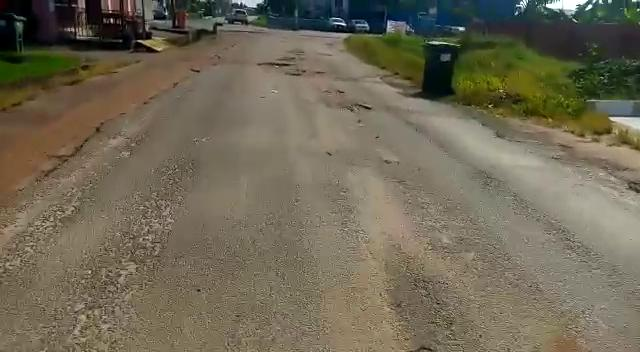pothole: (346, 102, 372, 114), (254, 61, 296, 68)
